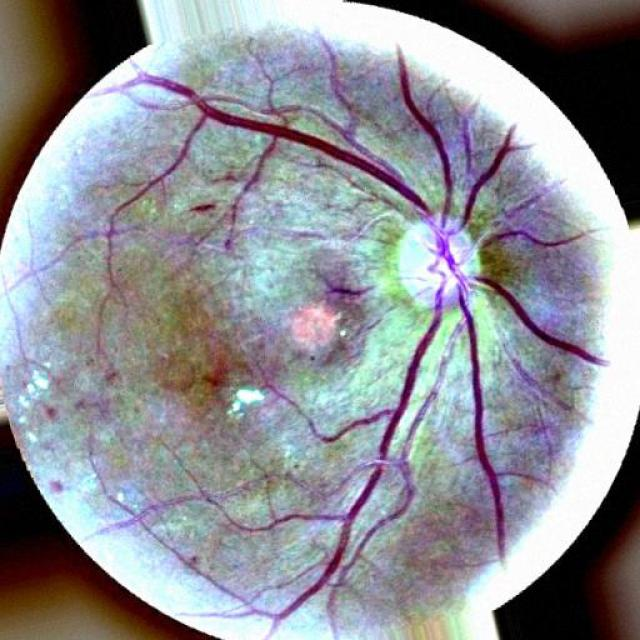Macula: (190, 361, 245, 406)
Nerves: (100, 50, 608, 621)
Optic Disk: (399, 215, 478, 305)
